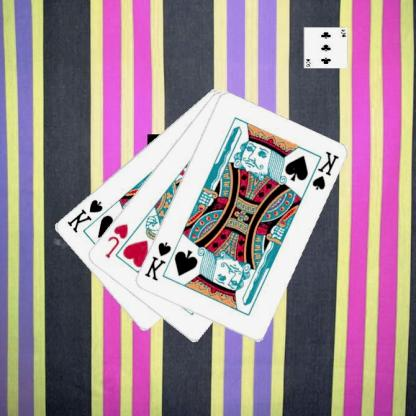JH: (104, 221, 131, 260)
KS: (304, 148, 341, 192), (65, 196, 106, 234), (143, 239, 174, 283)
